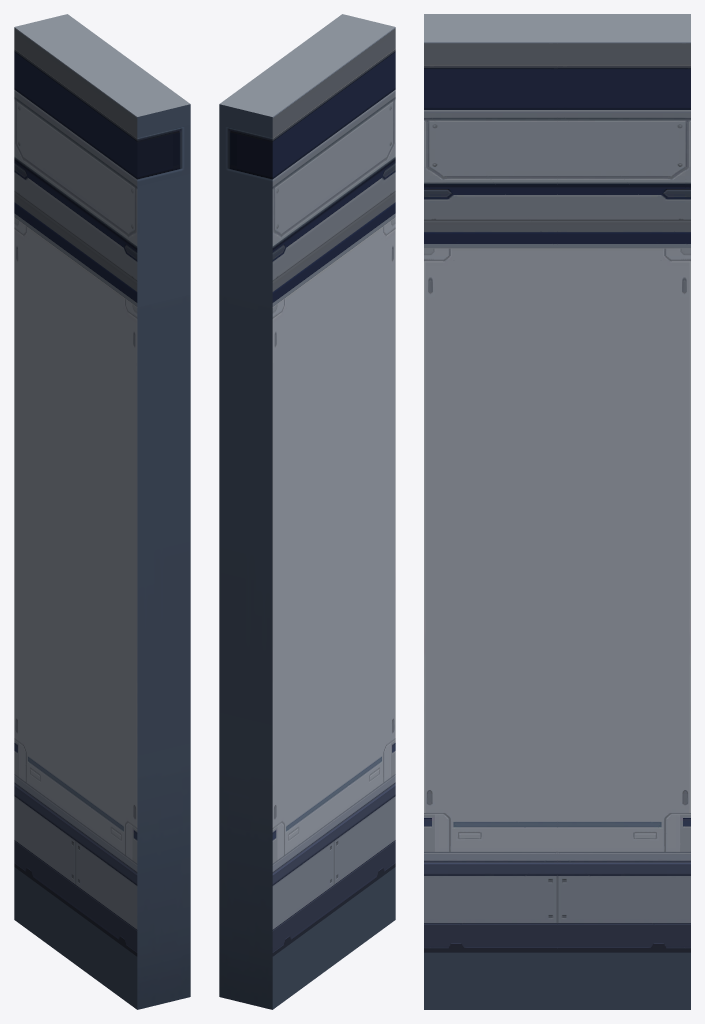
Rendered from my_carrier_01_wall_right.glb.
The picture shows the model from 3 angles, left to right: view 1: azimuth 30°, elevation 25°; view 2: azimuth 150°, elevation 25°; view 3: azimuth 270°, elevation 25°; orthographic projection. The views are drawn at different scales.
Visible parts, largest first — view 1: my_carrier_01_wall_right; view 2: my_carrier_01_wall_right; view 3: my_carrier_01_wall_right.
Boxes of the visible parts, bbox=[...] form: my_carrier_01_wall_right: bbox=[14, 14, 190, 1009]; my_carrier_01_wall_right: bbox=[219, 14, 395, 1009]; my_carrier_01_wall_right: bbox=[424, 14, 690, 1009].
Bounding box in the file's own units: 0.003 × 0.048 × 0.012.
Materials: 1 (1 with a texture image).
